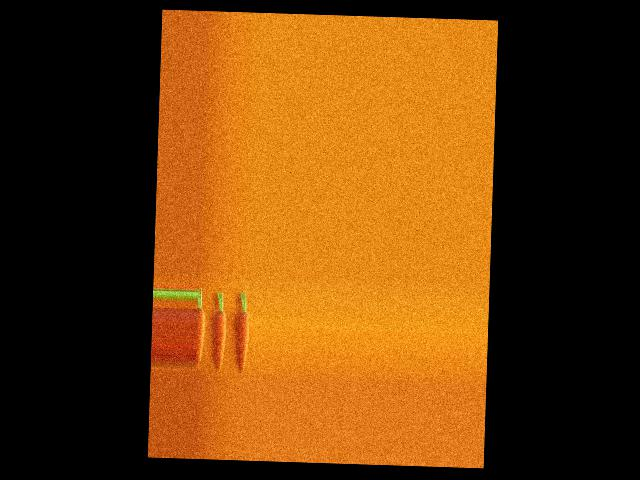carrot: (196, 286, 206, 359)
